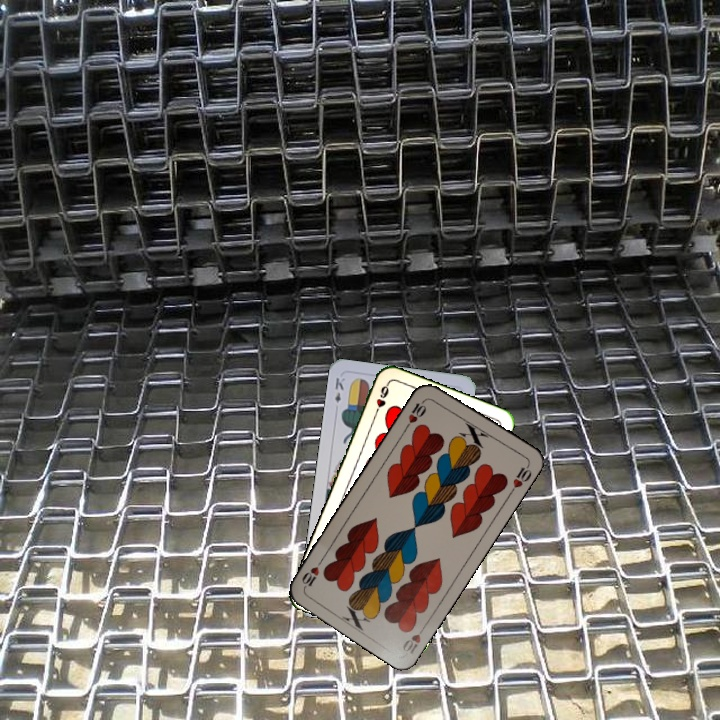EK: (331, 374, 347, 405)
H10: (398, 620, 430, 657), (402, 395, 429, 431)
H9: (370, 380, 391, 419)
